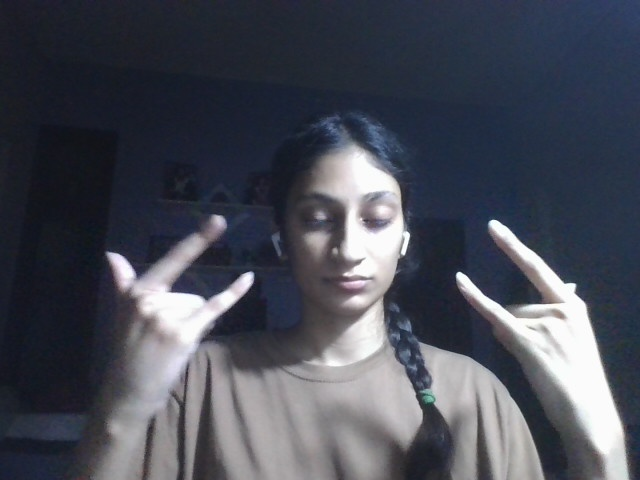i love you: (453, 217, 619, 445), (102, 214, 254, 412)
